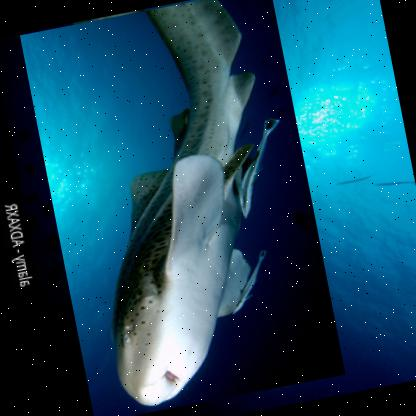zebra_shark: (17, 0, 345, 415)
